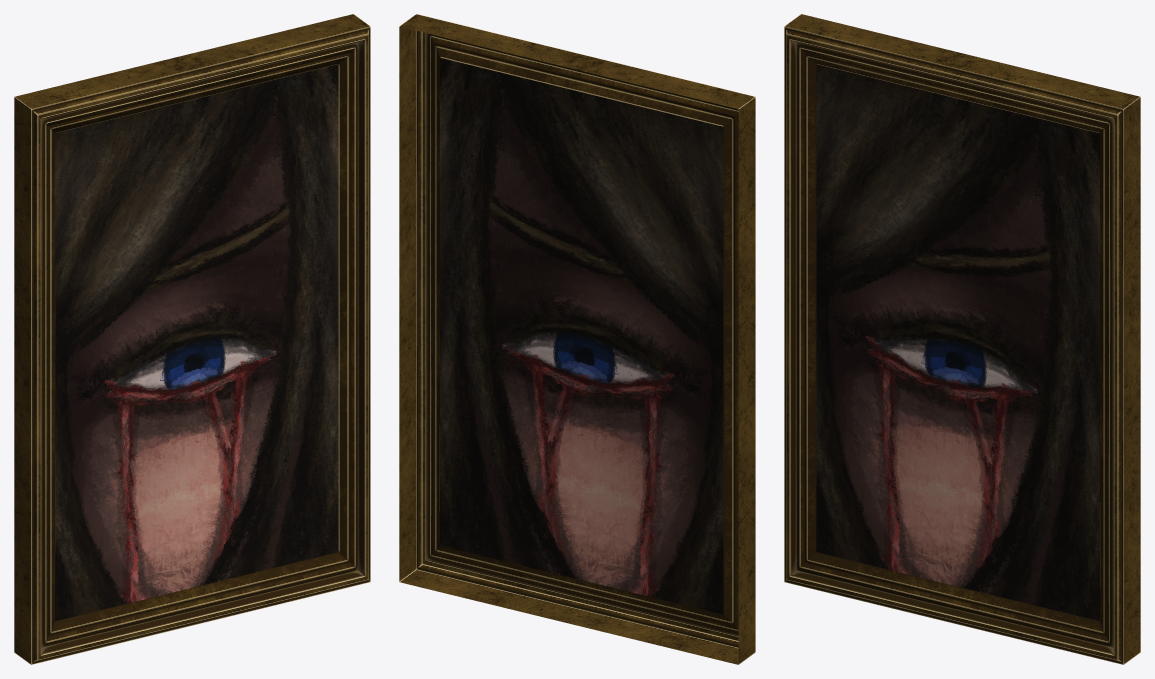
Rendered from true-painting-3.fbx.
3 views of the same model, side by side, from view 1: azimuth 30°, elevation 25°; view 2: azimuth 150°, elevation 25°; view 3: azimuth 330°, elevation 25° (orthographic).
Parts seen in each view (by area): view 1: painting_Var2_17; view 2: painting_Var2_17; view 3: painting_Var2_17.
Boxes of the visible parts, x1=… form: painting_Var2_17: x1=14, y1=14, x2=370, y2=664; painting_Var2_17: x1=399, y1=14, x2=755, y2=664; painting_Var2_17: x1=784, y1=14, x2=1140, y2=664.
Size of the model in its own units: 59.07 by 92.39 by 5.86.
Materials: 2 (2 with a texture image).
